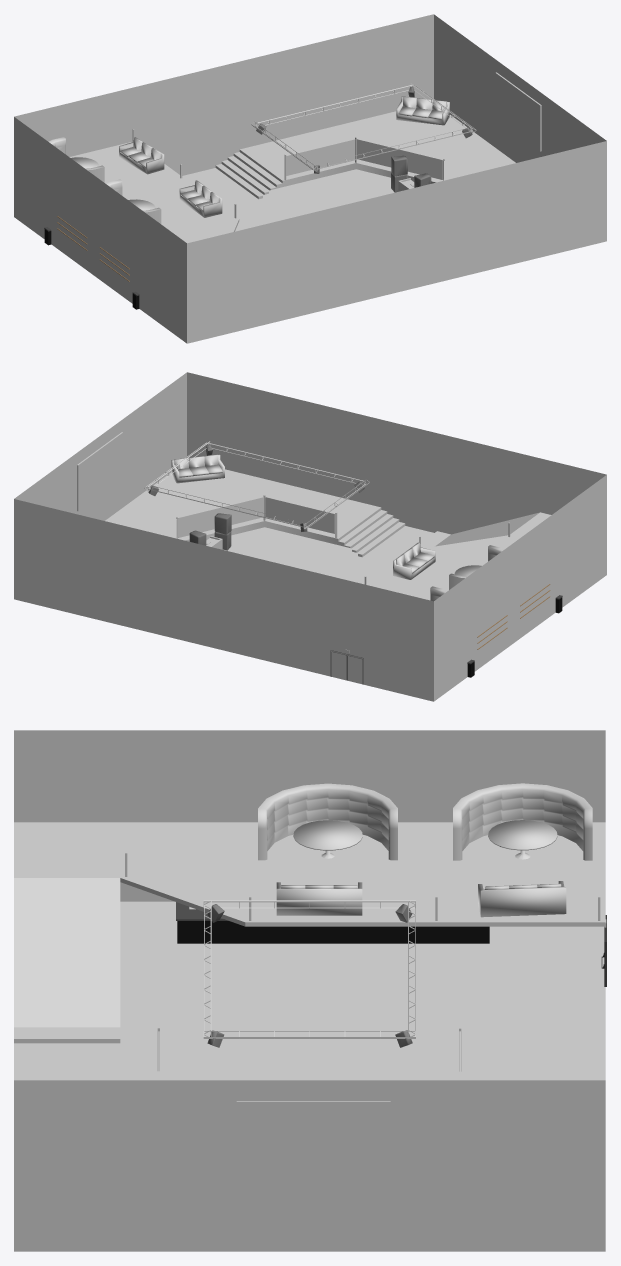
The model's file is Club 1.FBX.
The picture shows the model from 3 angles, top to bottom: view 1: azimuth 30°, elevation 25°; view 2: azimuth 150°, elevation 25°; view 3: azimuth 270°, elevation 25°; orthographic projection. The views are drawn at different scales.
Parts seen in each view (by area): view 1: Plane003, Plane002, Plane005, Box006, Plane004, Box007, Cylinder003, Box140, Plane001, Box014, Cylinder005, Box013 (+3 smaller); view 2: Plane002, Plane003, Plane005, Box006, Plane004, Box007, Cylinder003, Box140, Plane001, Box015, Cylinder005, Box159 (+2 smaller); view 3: Plane004, Plane001, Box007, Plane005, Box140, Cylinder003, Booth007, Booth006, Box116, Box006, Couch004, Cylinder005 (+3 smaller).
Part boxes in pixels (x1=…): Plane003: x1=187, y1=141, x2=606, y2=343; Plane002: x1=14, y1=14, x2=433, y2=175; Plane005: x1=14, y1=117, x2=186, y2=343; Box006: x1=215, y1=111, x2=515, y2=199; Plane004: x1=434, y1=14, x2=606, y2=162; Box007: x1=69, y1=141, x2=239, y2=299; Cylinder003: x1=263, y1=169, x2=394, y2=224; Box140: x1=495, y1=72, x2=541, y2=151; Plane001: x1=182, y1=168, x2=262, y2=231; Box014: x1=357, y1=139, x2=442, y2=179; Cylinder005: x1=251, y1=83, x2=476, y2=171; Box013: x1=286, y1=139, x2=354, y2=175; Plane002: x1=14, y1=499, x2=433, y2=701; Plane003: x1=187, y1=372, x2=606, y2=534; Plane005: x1=434, y1=475, x2=606, y2=701; Box006: x1=105, y1=469, x2=405, y2=557; Plane004: x1=14, y1=372, x2=186, y2=520; Box007: x1=314, y1=512, x2=551, y2=657; Cylinder003: x1=223, y1=527, x2=357, y2=582; Box140: x1=77, y1=432, x2=123, y2=511; Plane001: x1=358, y1=526, x2=433, y2=585; Box015: x1=178, y1=497, x2=263, y2=537; Cylinder005: x1=144, y1=441, x2=369, y2=529; Box159: x1=265, y1=497, x2=334, y2=533; Plane004: x1=14, y1=1080, x2=605, y2=1251; Plane001: x1=14, y1=901, x2=605, y2=1067; Box007: x1=14, y1=822, x2=605, y2=1043; Plane005: x1=14, y1=730, x2=605, y2=901; Box140: x1=236, y1=1101, x2=390, y2=1179; Cylinder003: x1=161, y1=1031, x2=458, y2=1080; Booth007: x1=453, y1=783, x2=592, y2=860; Booth006: x1=258, y1=783, x2=397, y2=860; Box116: x1=176, y1=902, x2=489, y2=943; Box006: x1=14, y1=1065, x2=605, y2=1080; Couch004: x1=478, y1=881, x2=566, y2=917; Cylinder005: x1=203, y1=900, x2=415, y2=1038.
Bounding box in the file's own units: 35316 × 8016 × 25056.
Materials: 13 (1 with a texture image).
